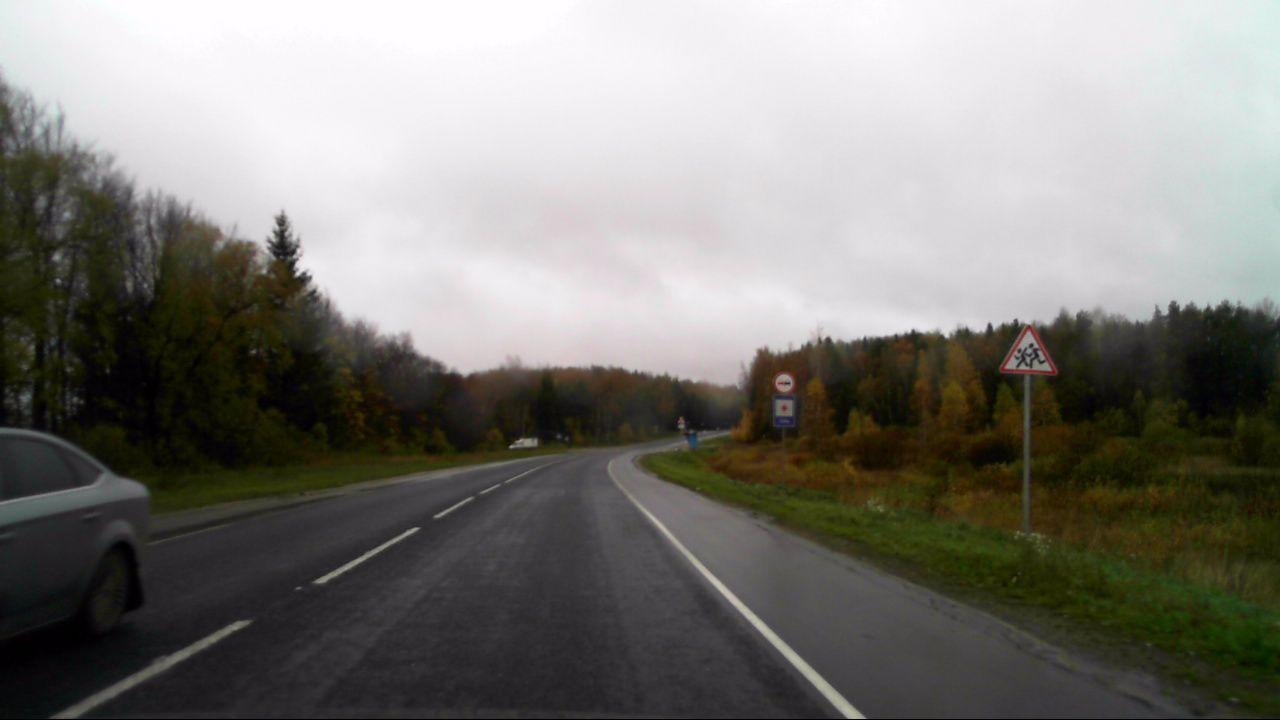1_23: (999, 320, 1059, 376)
3_20: (774, 370, 796, 393)
7_1: (772, 394, 797, 425)
